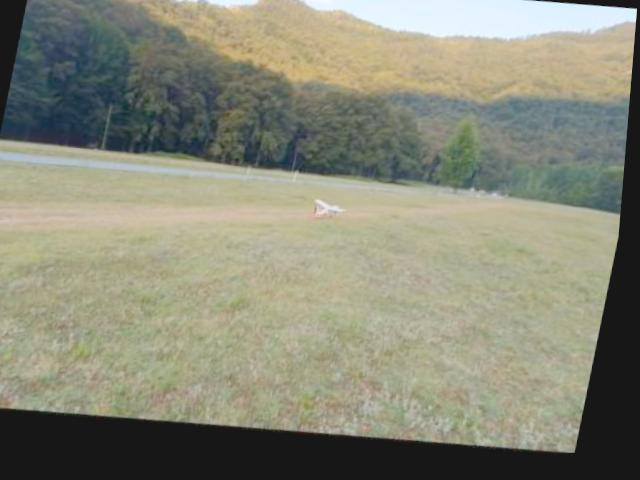uav: (309, 198, 352, 227)
